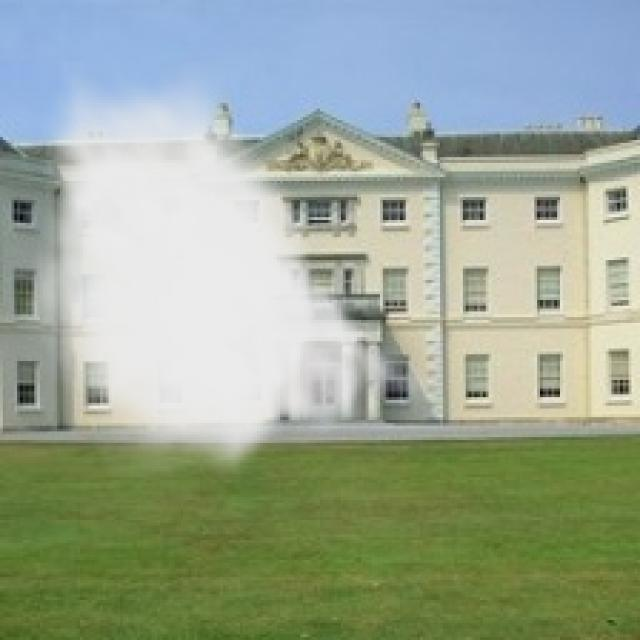Smoke: (23, 57, 440, 483)
